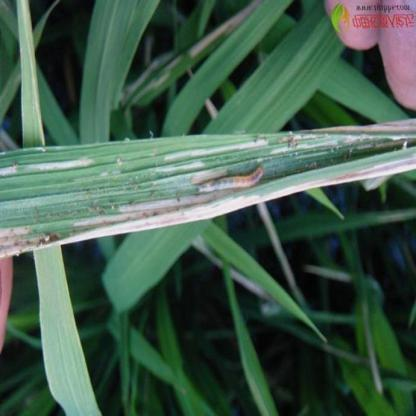leaf-folder: (192, 150, 260, 212)
